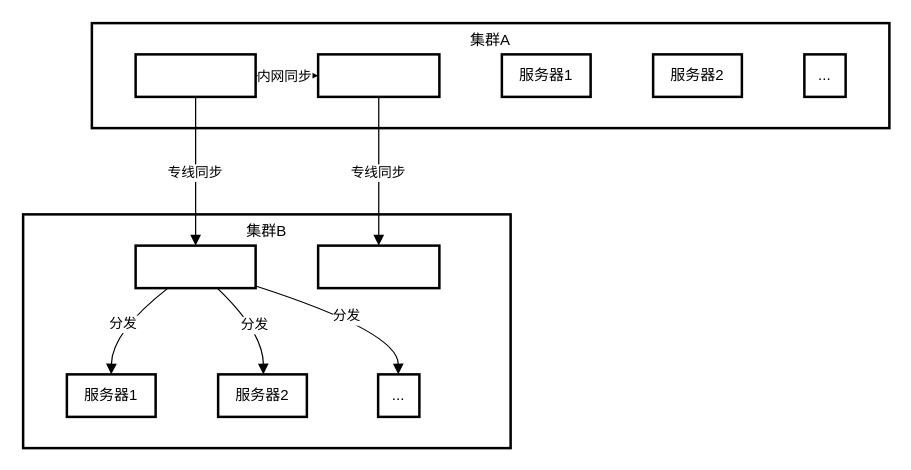
This 911x470 diagram has some shape labels left out. The shapes that lost their labels are listed below. From the top down, each one's centre as x and y in pixels, then its label:
At point 195,75: "控制节点主".
At point 378,75: "控制节点备".
At point 195,266: "镜像节点主".
At point 378,266: "镜像节点备".
